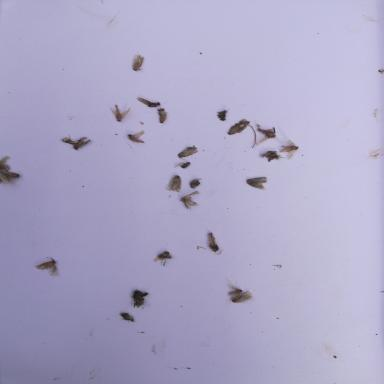pbw: (34, 257, 61, 276), (255, 124, 276, 145), (226, 119, 251, 135), (111, 104, 130, 122), (280, 140, 298, 159), (181, 190, 199, 209), (177, 145, 198, 160), (229, 291, 254, 303), (262, 150, 286, 162), (127, 130, 146, 144), (136, 97, 160, 107), (246, 177, 266, 189), (0, 171, 20, 183), (166, 176, 180, 192), (70, 137, 86, 150), (133, 54, 145, 70), (228, 286, 243, 296), (158, 108, 168, 123), (0, 156, 10, 170), (190, 178, 202, 188), (174, 162, 190, 168)
